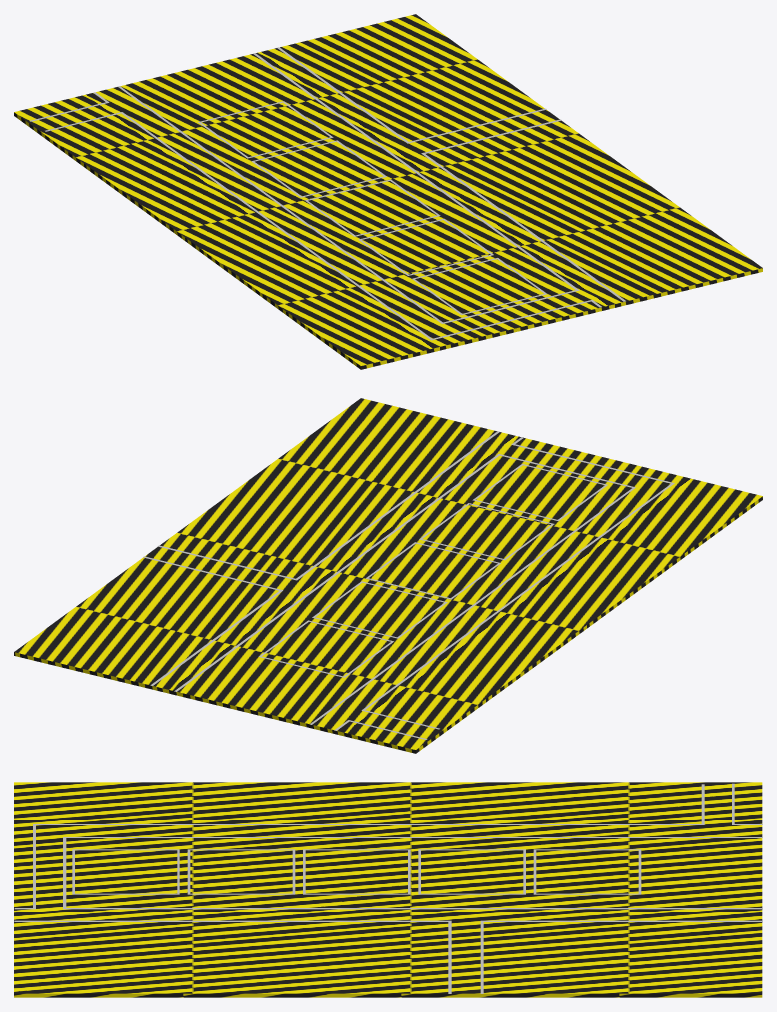
The model's file is warehouse_ground_visual.DAE.
The picture shows the model from 3 angles, top to bottom: view 1: azimuth 30°, elevation 25°; view 2: azimuth 150°, elevation 25°; view 3: azimuth 270°, elevation 25°; orthographic projection. The views are drawn at different scales.
Parts seen in each view (by area): view 1: aws_robomaker_warehouse_GroundB_01_visual; view 2: aws_robomaker_warehouse_GroundB_01_visual; view 3: aws_robomaker_warehouse_GroundB_01_visual.
Boxes of the visible parts, <box> form: aws_robomaker_warehouse_GroundB_01_visual: <box>14,14,762,369</box>; aws_robomaker_warehouse_GroundB_01_visual: <box>14,398,762,753</box>; aws_robomaker_warehouse_GroundB_01_visual: <box>14,782,762,997</box>.
Bounding box in the file's own units: 1400 × 2092 × 12.45.
Materials: 2 (1 with a texture image).
